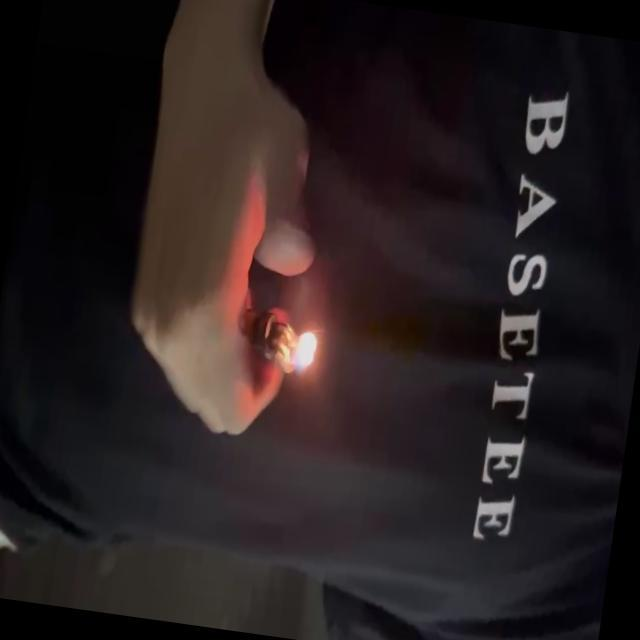Fire: (286, 329, 323, 375)
